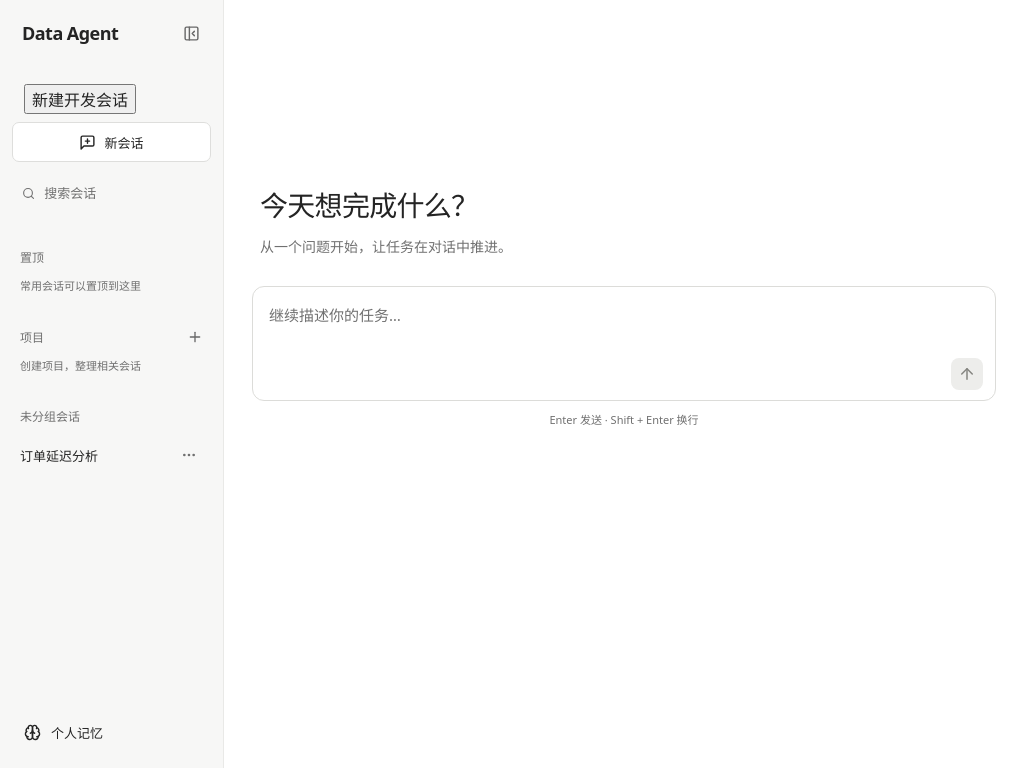
server-backed conversation workspace › keeps the session drawer open after selecting a session until the user collapses it
The width and height of the screenshot is (1024, 768).
Click the button "订单延迟分析": (90, 455) [12, 437, 167, 474]
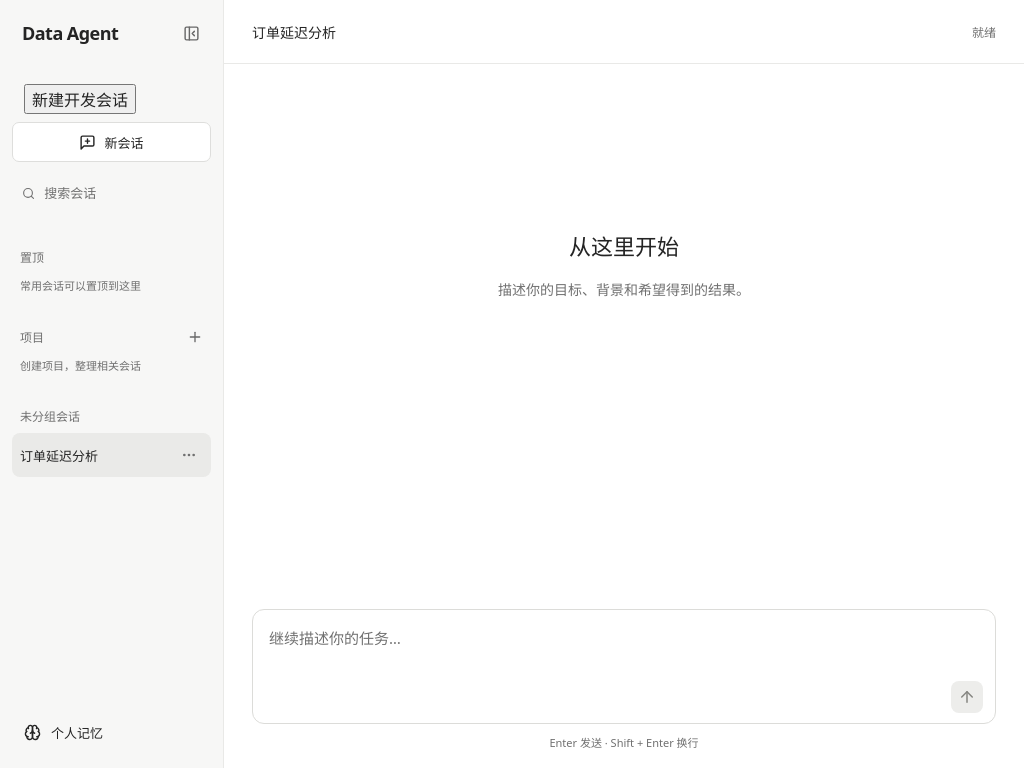
Expected: the element named "会话列表" is shown, [0, 0, 224, 767]
Click the button named "收起会话列表": (191, 33) [175, 17, 207, 49]
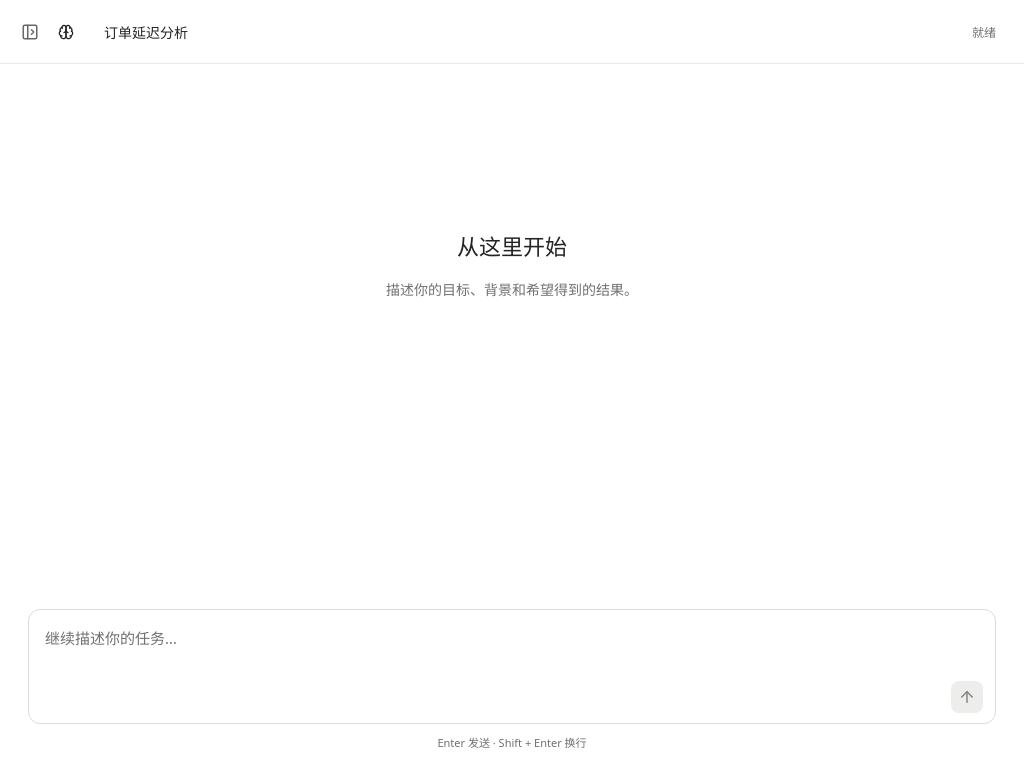
Expected: the element "会话列表" is gone
Expected: the button named "展开会话列表" is shown, [14, 16, 46, 48]
